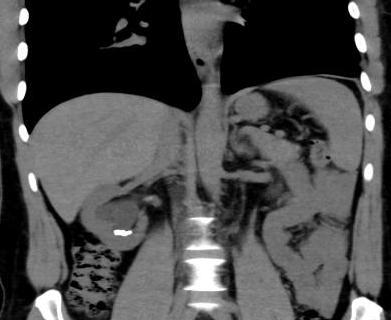Tas_Var: (114, 228, 134, 238)
